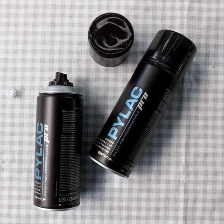aerosol_cans: (83, 23, 201, 183), (28, 68, 87, 213)
